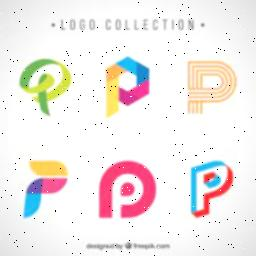p: (178, 56, 240, 120), (182, 153, 236, 223)
